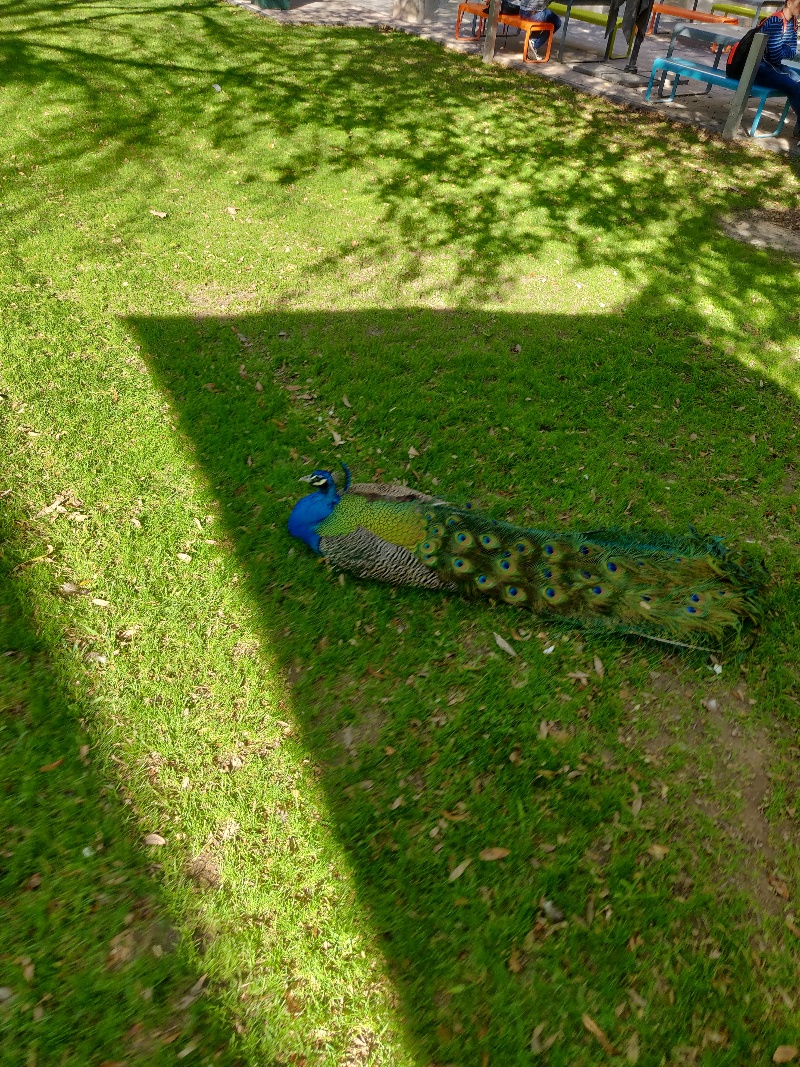pavoreal: (295, 468, 668, 597)
